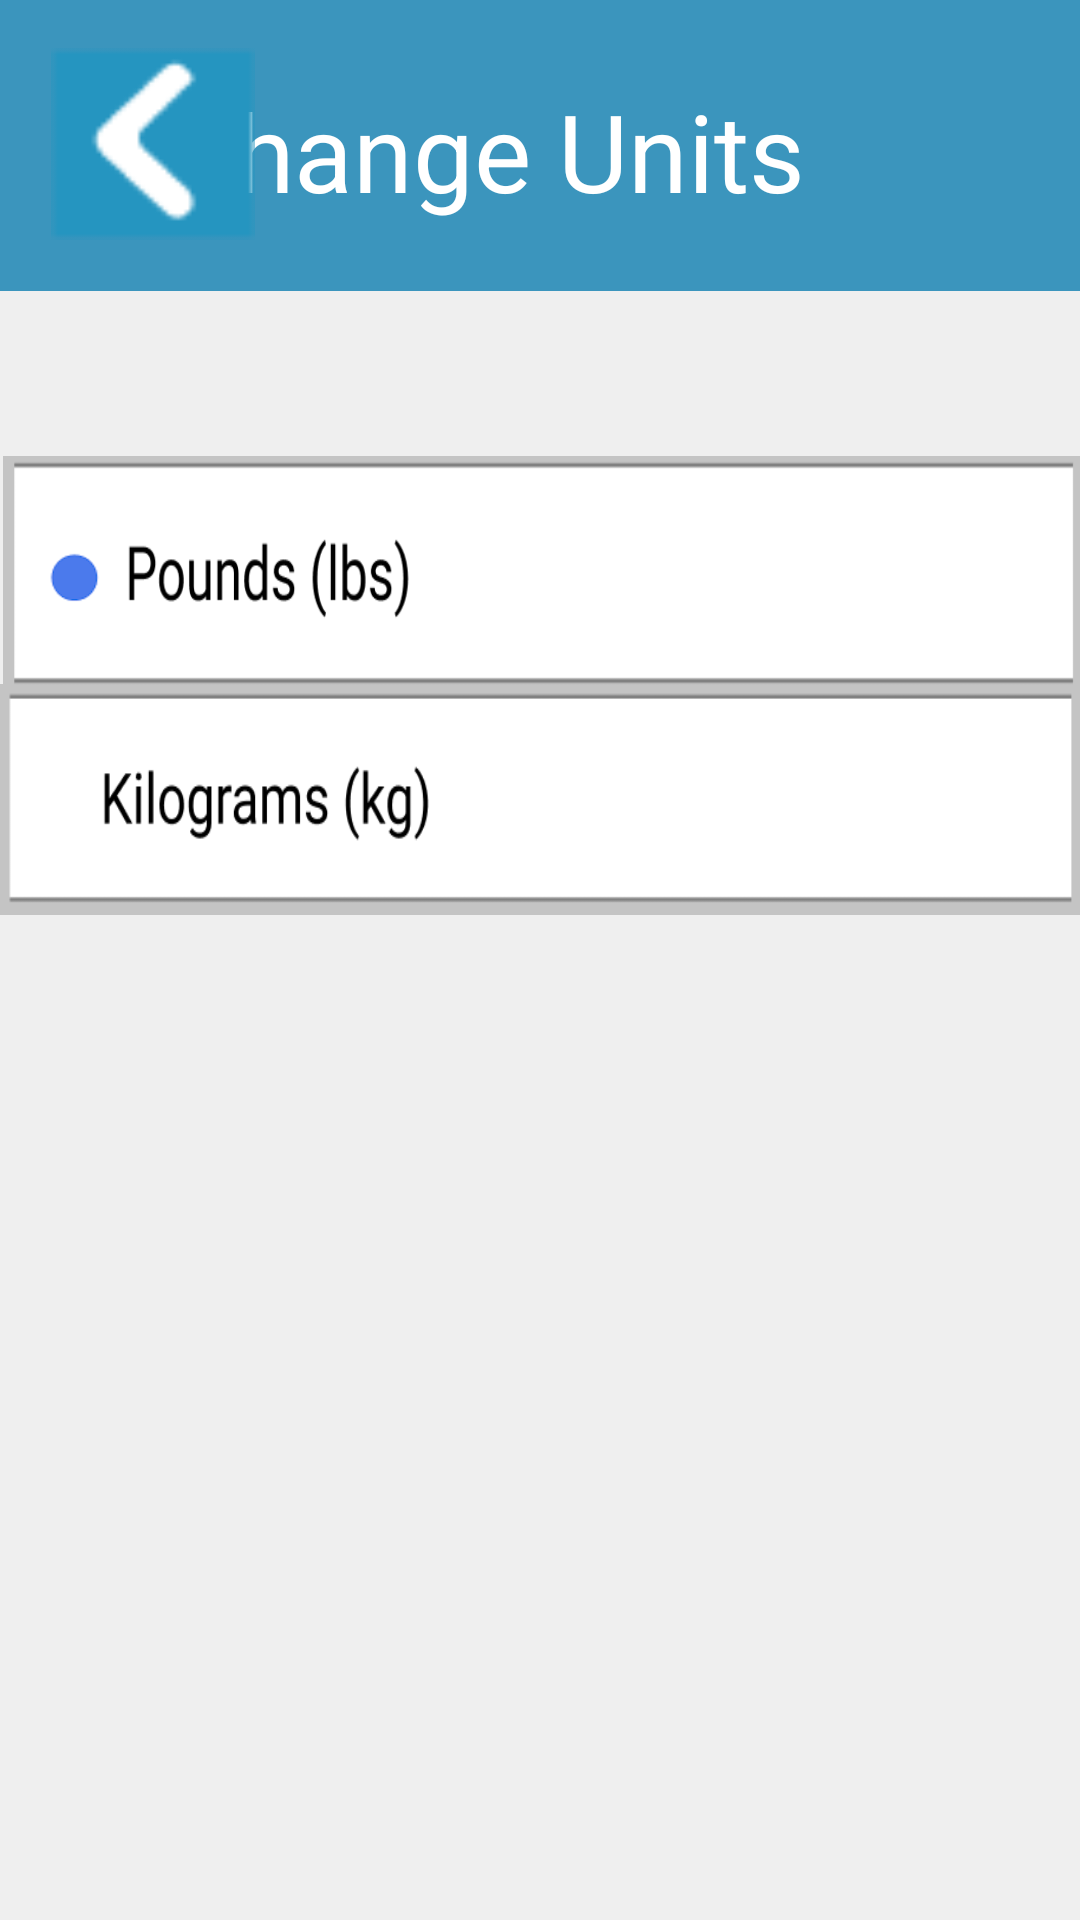

Screen size 1080px×1920px. Icon name, then its box in pixels as rect(x1, y1, x2, y2):
backarrow: rect(51, 51, 255, 237)
